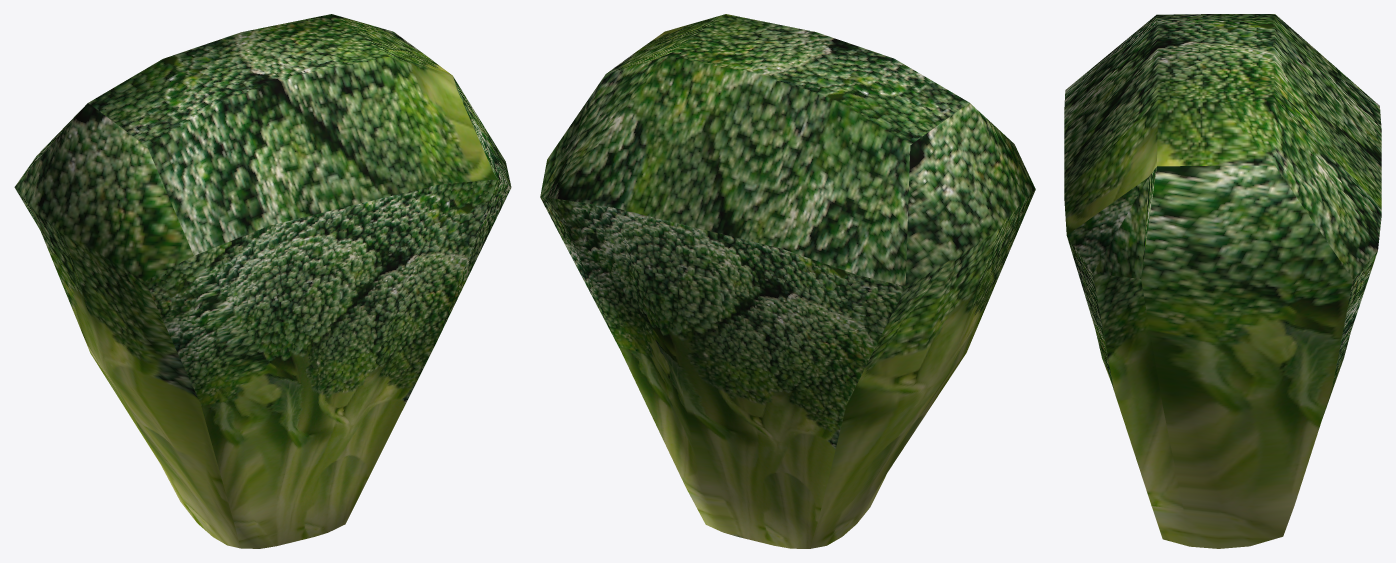
Rendered from Vege.fbx.
The picture shows the model from 3 angles, left to right: view 1: azimuth 30°, elevation 25°; view 2: azimuth 150°, elevation 25°; view 3: azimuth 270°, elevation 25°; orthographic projection.
Visible parts, largest first — view 1: pCube1; view 2: pCube1; view 3: pCube1.
Part boxes in pixels (x1=…): pCube1: x1=14, y1=14, x2=511, y2=548; pCube1: x1=540, y1=14, x2=1035, y2=548; pCube1: x1=1064, y1=14, x2=1381, y2=548.
Size of the model in its own units: 1.54 by 1.71 by 1.02.
